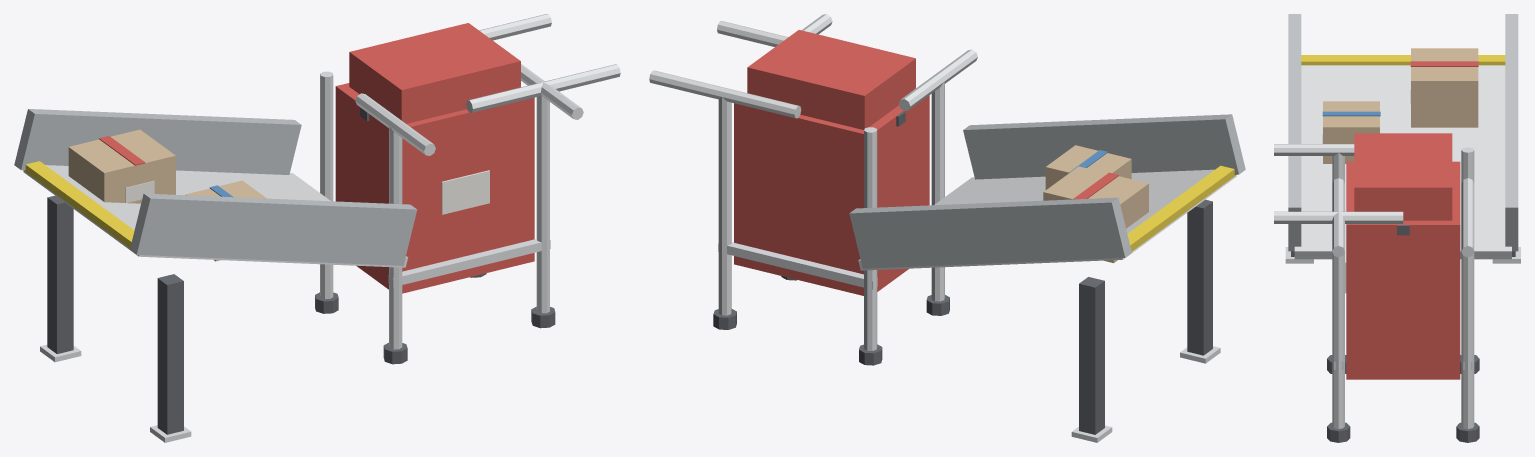
The model's file is sorting-chute-with-a-full-bag.glb.
3 renders of one model, left to right at view 1: azimuth 30°, elevation 25°; view 2: azimuth 150°, elevation 25°; view 3: azimuth 270°, elevation 25°, orthographic. The views are drawn at different scales.
Visible parts, largest first — view 1: parcel-depot-and-sorting-hall-sorting-chute-full-bag; view 2: parcel-depot-and-sorting-hall-sorting-chute-full-bag; view 3: parcel-depot-and-sorting-hall-sorting-chute-full-bag.
Part boxes in pixels (x1=…): parcel-depot-and-sorting-hall-sorting-chute-full-bag: x1=14, y1=14, x2=620, y2=442; parcel-depot-and-sorting-hall-sorting-chute-full-bag: x1=649, y1=14, x2=1245, y2=442; parcel-depot-and-sorting-hall-sorting-chute-full-bag: x1=1274, y1=14, x2=1520, y2=442.
Size of the model in its own units: 2.13 by 1.04 by 0.9549.
